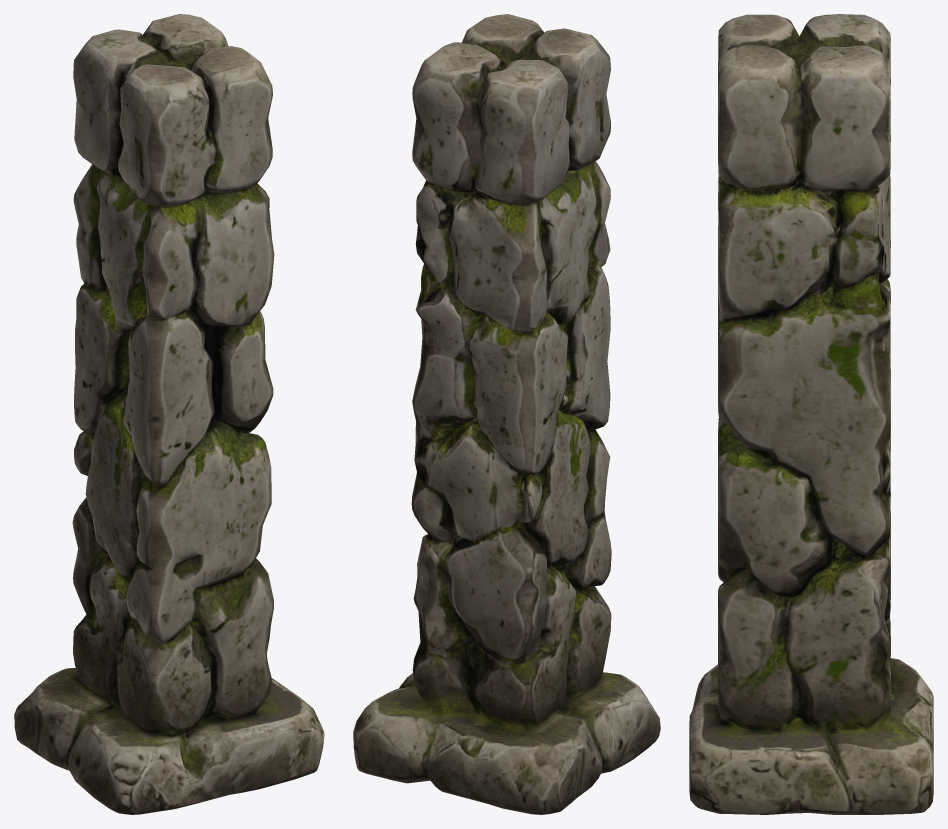
The model's file is MenhirTower.fbx.
3 renders of one model, left to right at view 1: azimuth 30°, elevation 25°; view 2: azimuth 150°, elevation 25°; view 3: azimuth 270°, elevation 25°, orthographic. The views are drawn at different scales.
Parts seen in each view (by area): view 1: mesh_node; view 2: mesh_node; view 3: mesh_node.
Part boxes in pixels (<box>): mesh_node: <box>14,14,324,814</box>; mesh_node: <box>353,14,660,814</box>; mesh_node: <box>689,14,933,814</box>.
Bounding box in the file's own units: 0.6057 × 1.98 × 0.6043.
